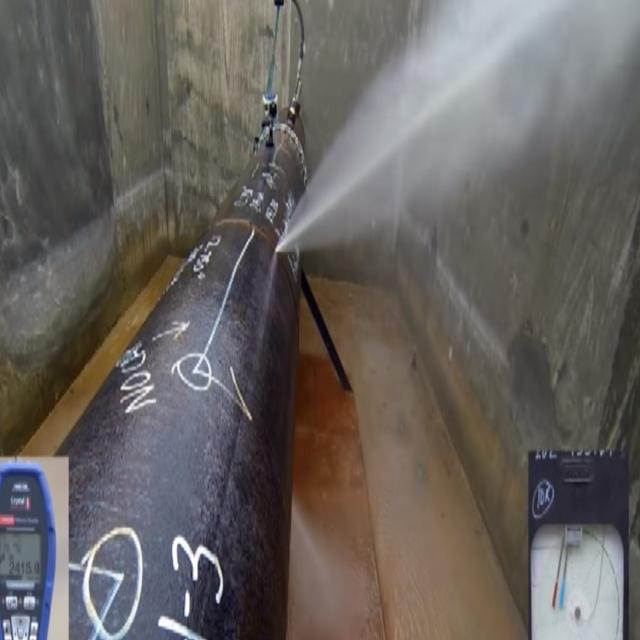leak: (281, 0, 640, 250)
